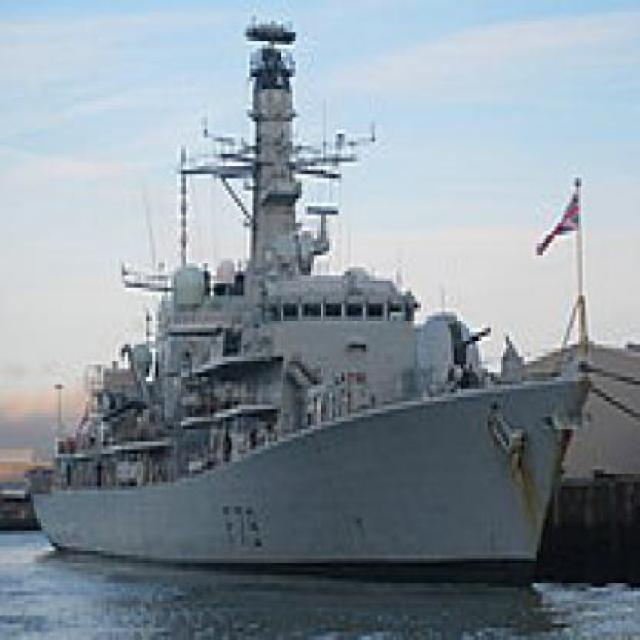warship2: (13, 17, 577, 588)
